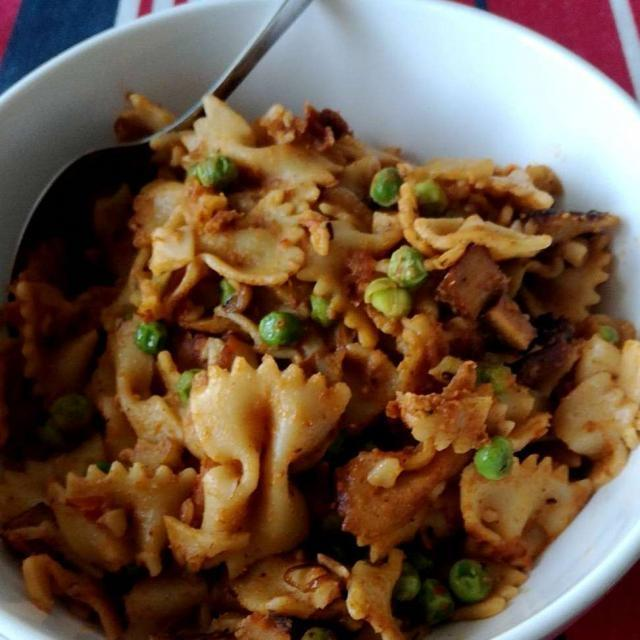pasta: (15, 107, 629, 621)
